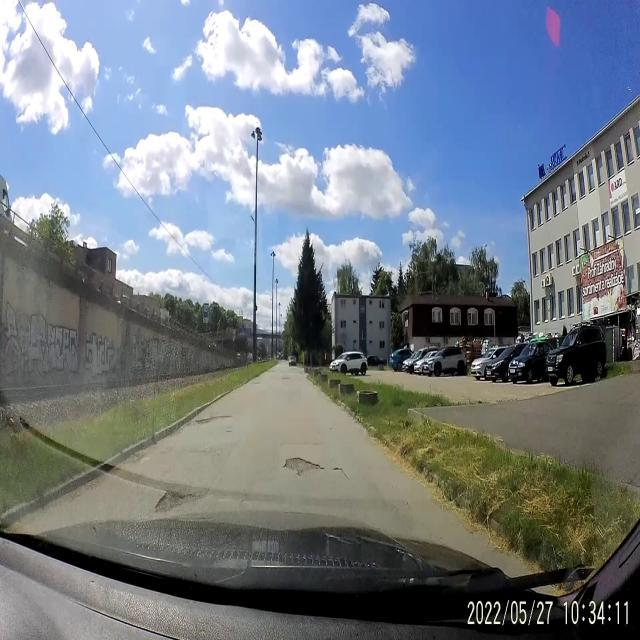Pothole: (151, 480, 211, 512), (280, 456, 326, 478), (194, 414, 234, 428), (332, 462, 354, 481), (226, 429, 233, 434), (252, 380, 260, 384)
